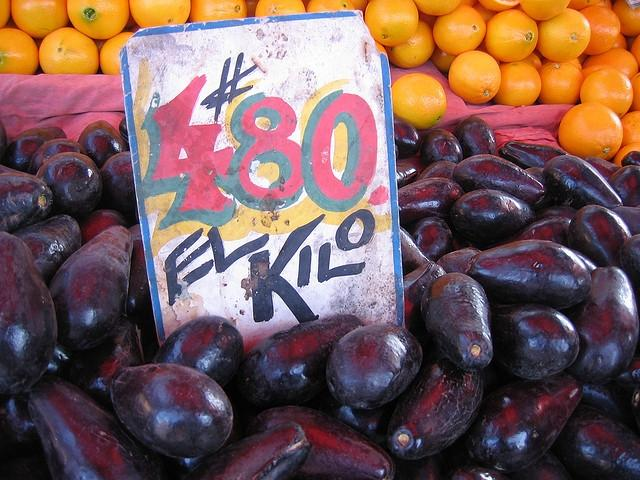orange: (558, 103, 622, 161), (391, 73, 447, 130), (484, 8, 538, 63), (536, 8, 590, 63), (38, 26, 99, 74), (580, 68, 634, 120), (449, 51, 501, 104), (383, 19, 436, 69), (433, 6, 486, 55), (67, 0, 130, 40), (364, 0, 418, 46), (492, 60, 542, 107), (11, 0, 69, 39), (578, 5, 620, 56), (537, 61, 584, 105), (582, 48, 638, 82), (0, 28, 39, 75), (129, 0, 191, 28), (99, 31, 135, 74), (188, 0, 247, 22), (518, 0, 570, 21), (613, 0, 640, 37), (618, 110, 640, 150), (255, 0, 306, 17), (430, 44, 458, 73), (413, 0, 463, 16), (306, 0, 356, 13), (627, 72, 640, 113), (566, 0, 610, 11), (480, 0, 520, 11), (521, 53, 542, 73), (630, 34, 640, 68), (0, 0, 11, 28)
